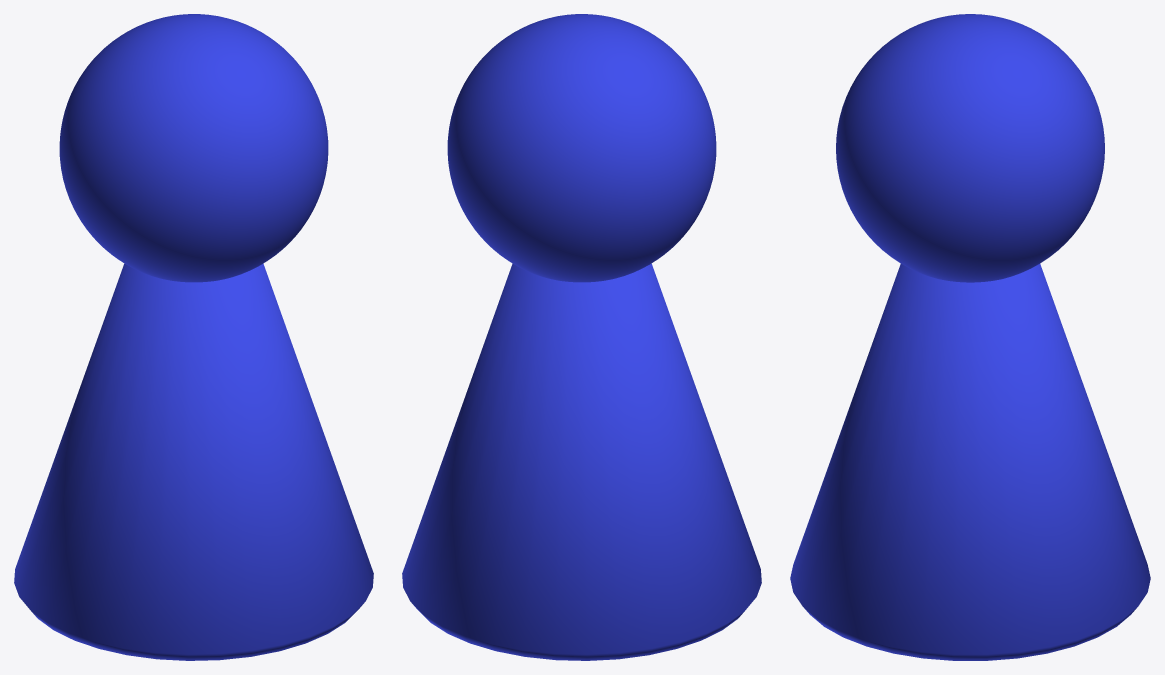
File: Blue_shape.gltf
3 views of the same model, side by side, from view 1: azimuth 30°, elevation 25°; view 2: azimuth 150°, elevation 25°; view 3: azimuth 270°, elevation 25° (orthographic).
Parts seen in each view (by area): view 1: Синяя_фигурка; view 2: Синяя_фигурка; view 3: Синяя_фигурка.
Part boxes in pixels (x1,y1,x2,y2): Синяя_фигурка: (14, 14, 373, 660); Синяя_фигурка: (402, 14, 761, 660); Синяя_фигурка: (790, 14, 1150, 660).
Size of the model in its own units: 2.46 by 4.3 by 2.47.
